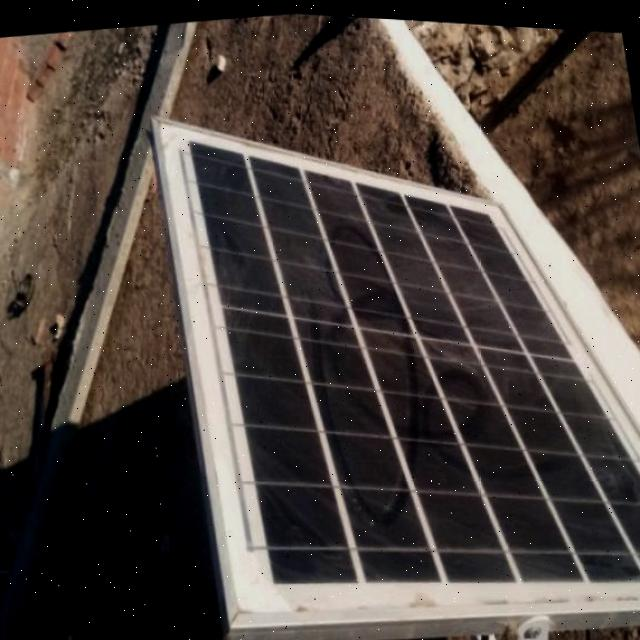Surface Contaminant: (295, 353, 533, 590), (256, 195, 514, 387), (212, 140, 312, 564), (511, 312, 575, 476)
